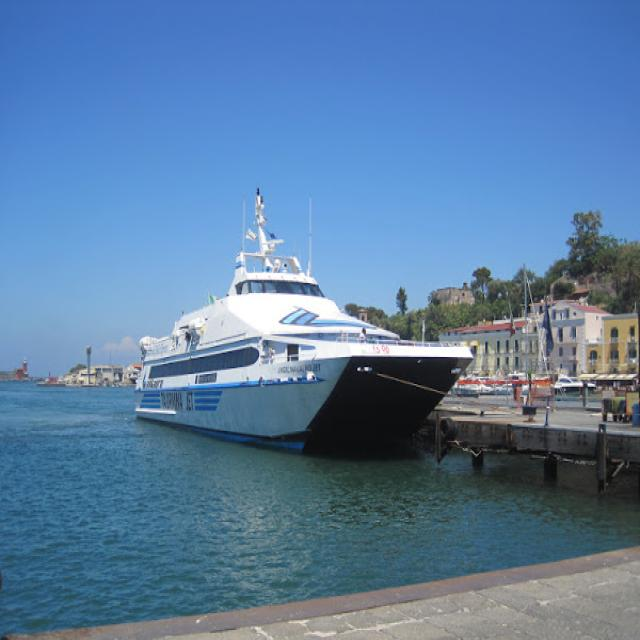houseboat: (126, 209, 472, 451)
